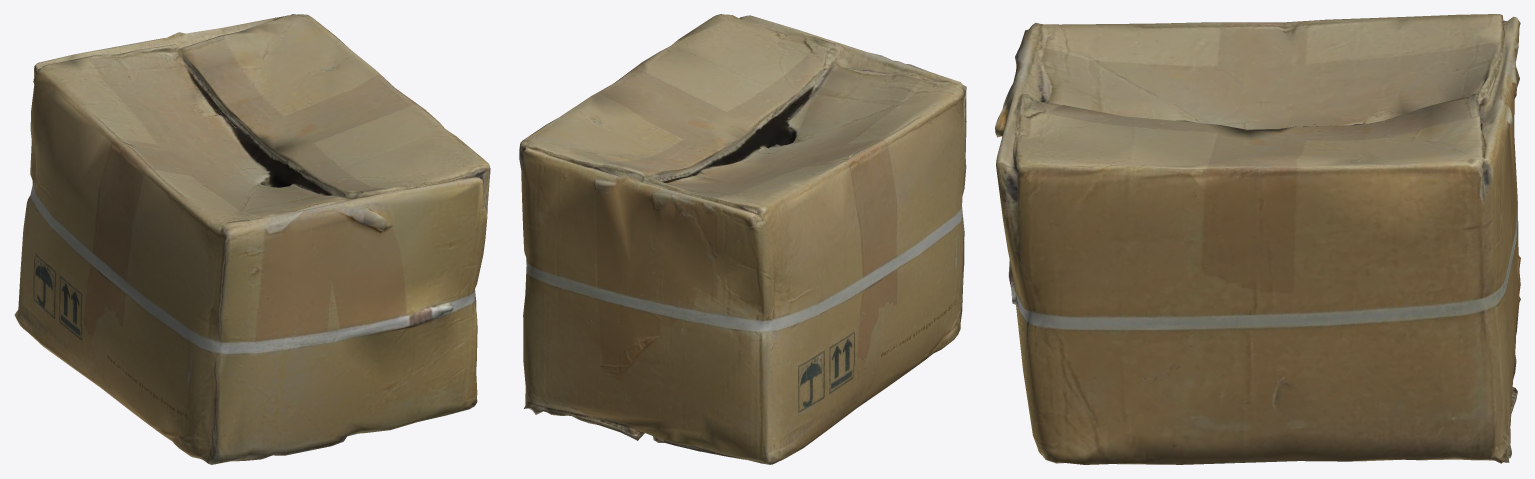
File: cardboard-box.glb
3 renders of one model, left to right at view 1: azimuth 30°, elevation 25°; view 2: azimuth 150°, elevation 25°; view 3: azimuth 270°, elevation 25°, orthographic. The views are drawn at different scales.
Visible parts, largest first — view 1: cardboard_box_01; view 2: cardboard_box_01; view 3: cardboard_box_01.
Boxes of the visible parts, box(x1,y1,x2,y2) form: cardboard_box_01: box(14, 14, 490, 464); cardboard_box_01: box(519, 14, 966, 464); cardboard_box_01: box(995, 14, 1520, 464).
Bounding box in the file's own units: 0.3861 × 0.3418 × 0.5159.
1 material, 1 textured.
